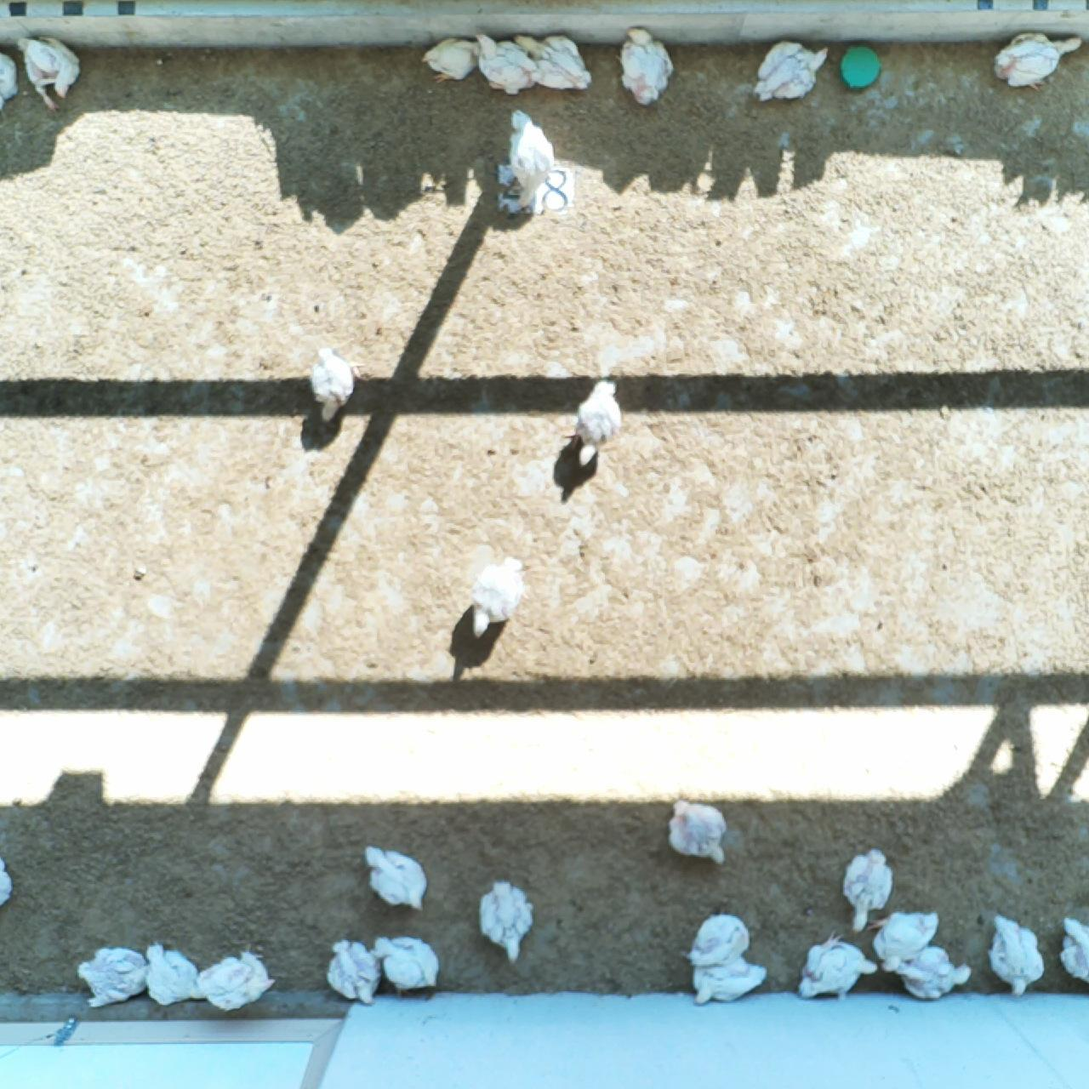chicken: (362, 839, 441, 923), (567, 370, 630, 470), (610, 19, 674, 117), (984, 31, 1086, 87), (751, 32, 829, 105), (989, 910, 1052, 1000), (12, 29, 78, 114), (474, 882, 541, 964), (515, 25, 590, 98), (511, 105, 559, 219), (69, 949, 157, 1009), (193, 952, 278, 1014), (664, 789, 727, 870), (842, 847, 904, 927), (468, 553, 522, 641), (371, 936, 446, 999), (859, 912, 944, 966), (802, 940, 875, 1001), (305, 345, 361, 423), (322, 942, 389, 1005), (673, 958, 771, 1001), (677, 917, 758, 968), (893, 952, 969, 1006), (145, 943, 200, 1015), (476, 33, 537, 96), (1058, 910, 1089, 993), (426, 33, 478, 77), (1, 44, 19, 121), (1, 848, 14, 910)
